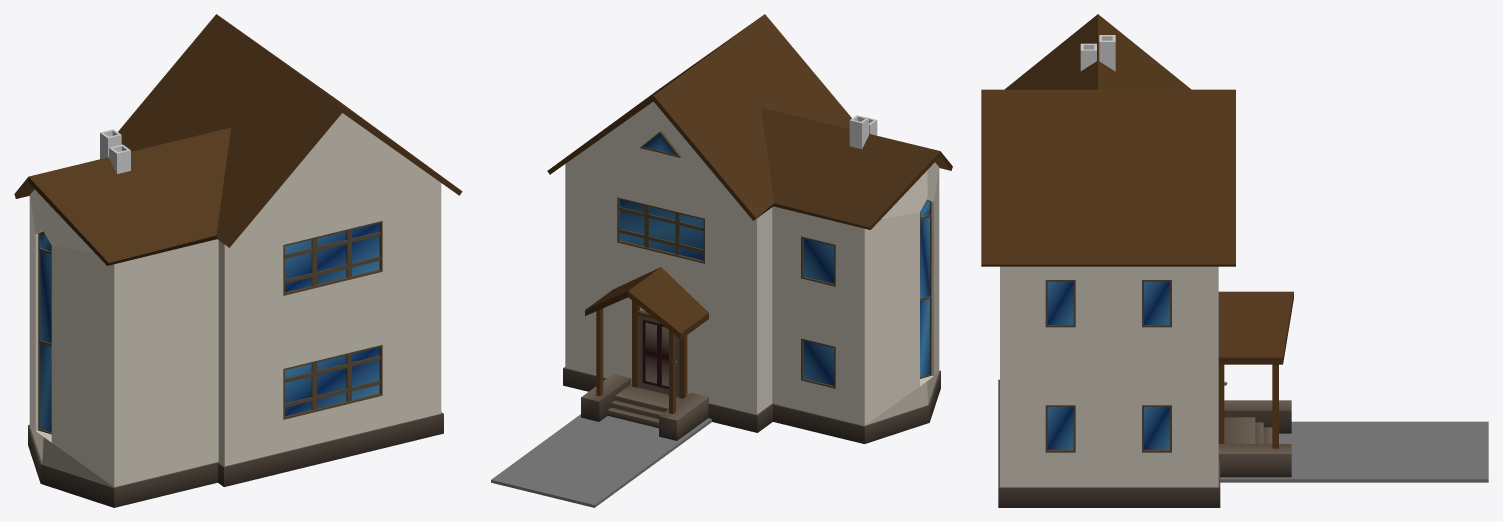
Rendered from cottage_5.fbx.
The picture shows the model from 3 angles, left to right: view 1: azimuth 30°, elevation 25°; view 2: azimuth 150°, elevation 25°; view 3: azimuth 270°, elevation 25°; orthographic projection. The views are drawn at different scales.
Visible parts, largest first — view 1: cottage_5; view 2: cottage_5; view 3: cottage_5.
Part boxes in pixels (left/top/right/bottom): cottage_5: left=14, top=14, right=462, bottom=507; cottage_5: left=491, top=14, right=952, bottom=507; cottage_5: left=981, top=14, right=1488, bottom=507.
Size of the model in its own units: 12.12 by 14.01 by 11.09.
